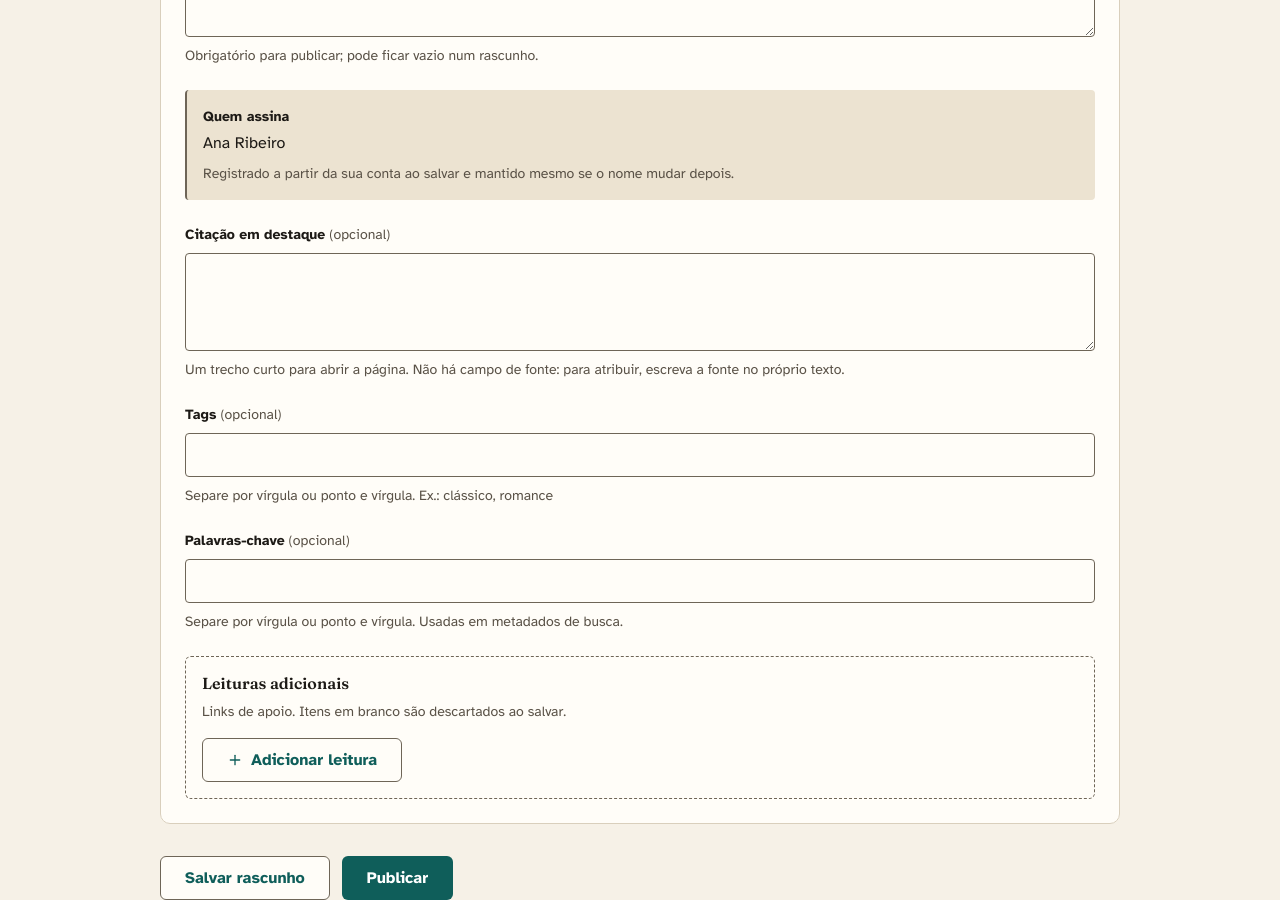
Test: leituras adicionais: adicionar, remover e o foco em cada transição › REMOVER O ÚLTIMO ITEM RESTANTE → foco em "Adicionar leitura" (nunca órfão)
(page scrolled)
Step 1. Click the button "Adicionar leitura" → [302, 760], box 202,738 -> 402,782
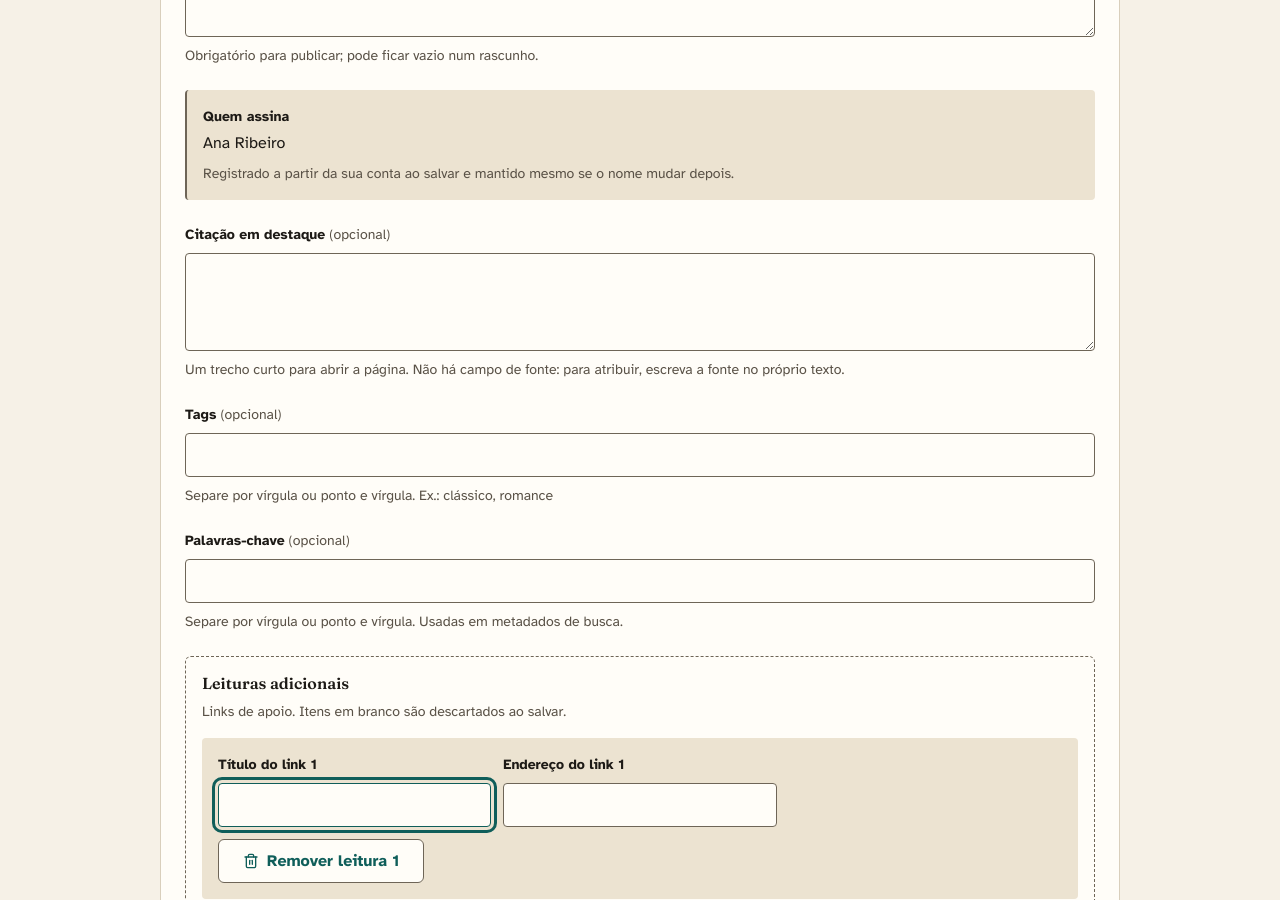
Step 2. Click the button "Remover leitura 1" → [321, 861], box 218,839 -> 424,883
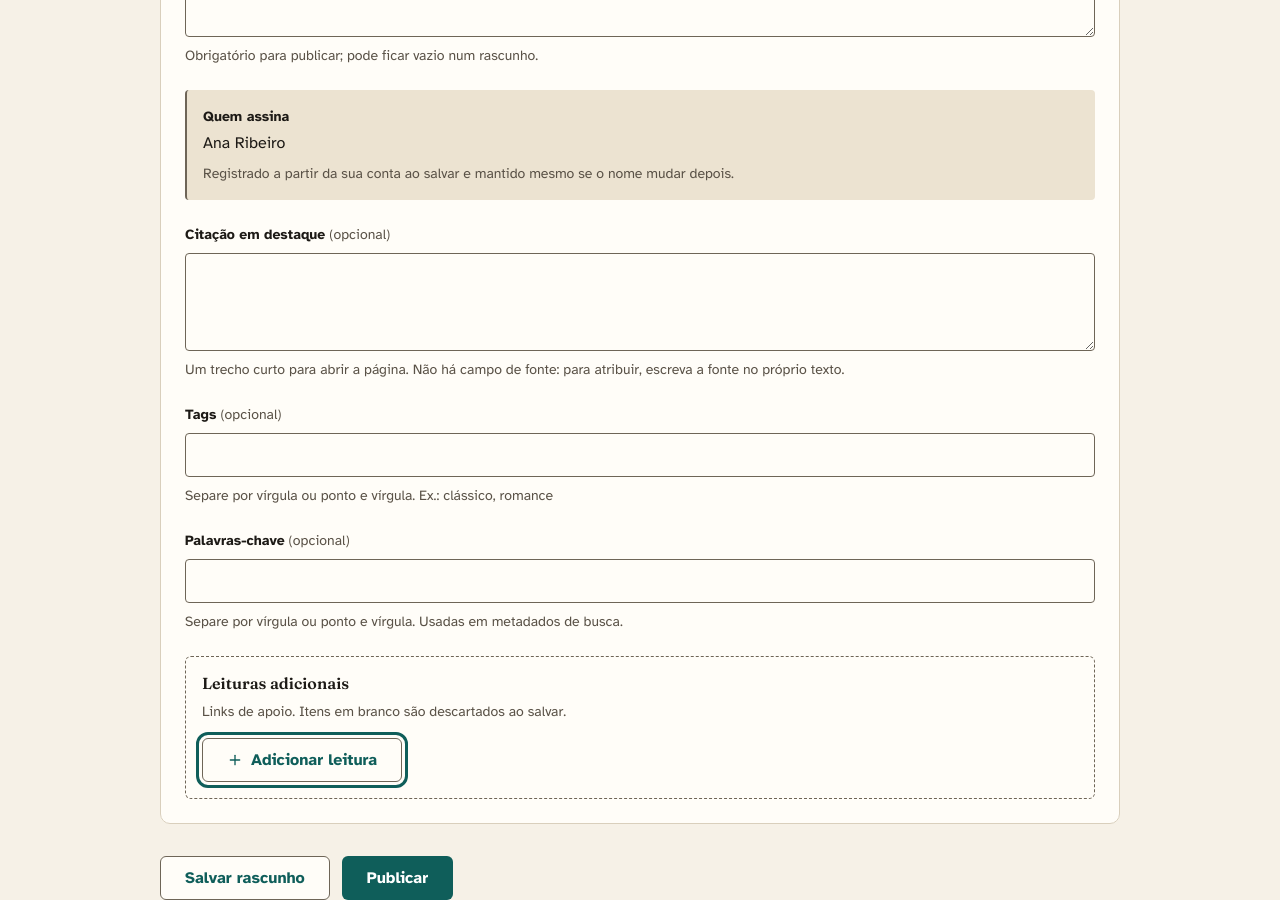
Expected: the label "Título do link" is gone
